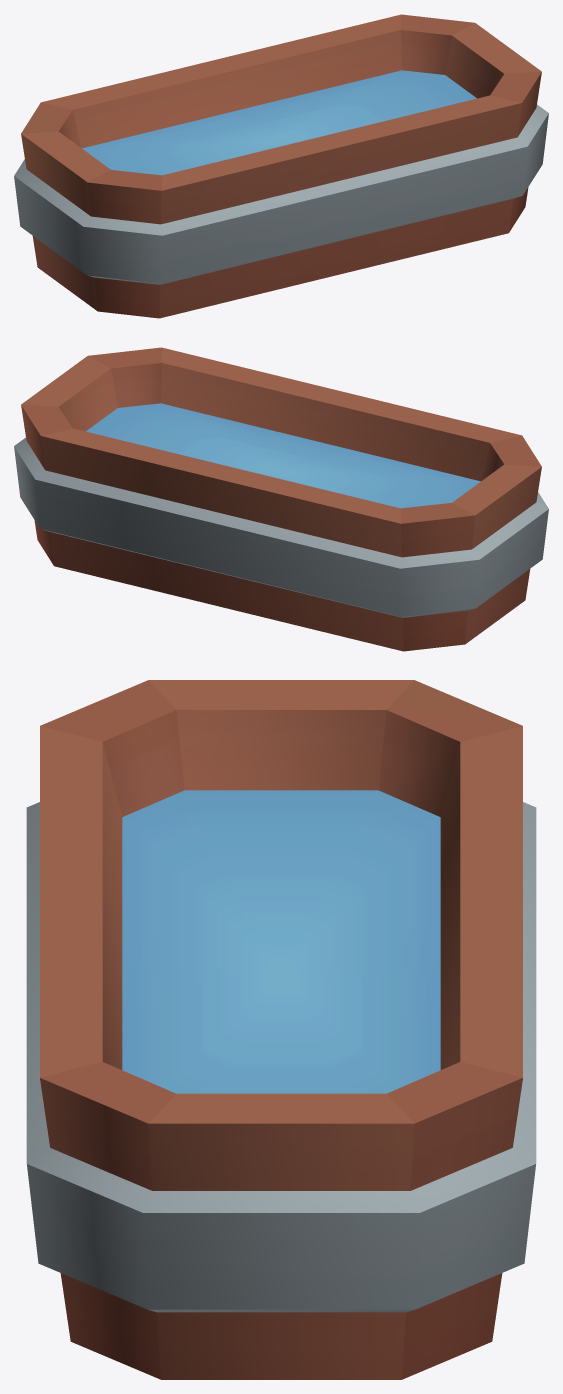
File: trough_long.glb
3 views of the same model, one above another, from view 1: azimuth 30°, elevation 25°; view 2: azimuth 150°, elevation 25°; view 3: azimuth 270°, elevation 25° (orthographic). The views are drawn at different scales.
Parts seen in each view (by area): view 1: trough_long; view 2: trough_long; view 3: trough_long.
Boxes of the visible parts, x1=… form: trough_long: x1=14, y1=14, x2=548, y2=318; trough_long: x1=14, y1=347, x2=548, y2=651; trough_long: x1=26, y1=680, x2=536, y2=1379.
Bounding box in the file's own units: 0.38 × 0.105 × 0.18.
Materials: 1 (1 with a texture image).
